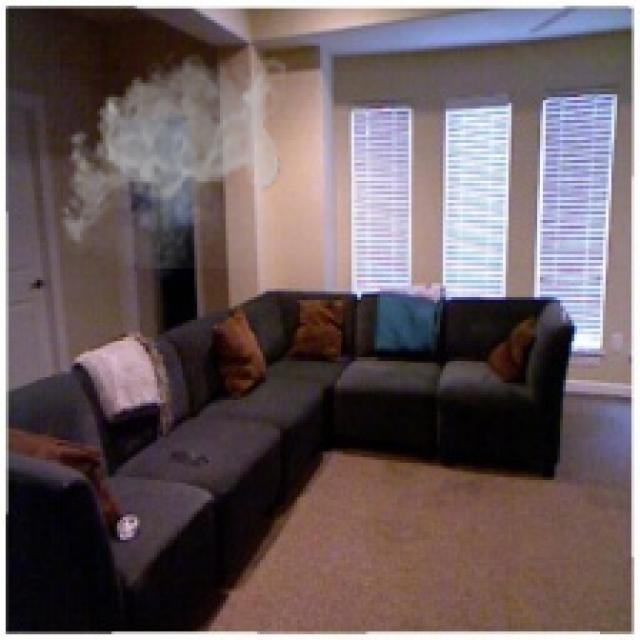smoke: (54, 45, 286, 268)
